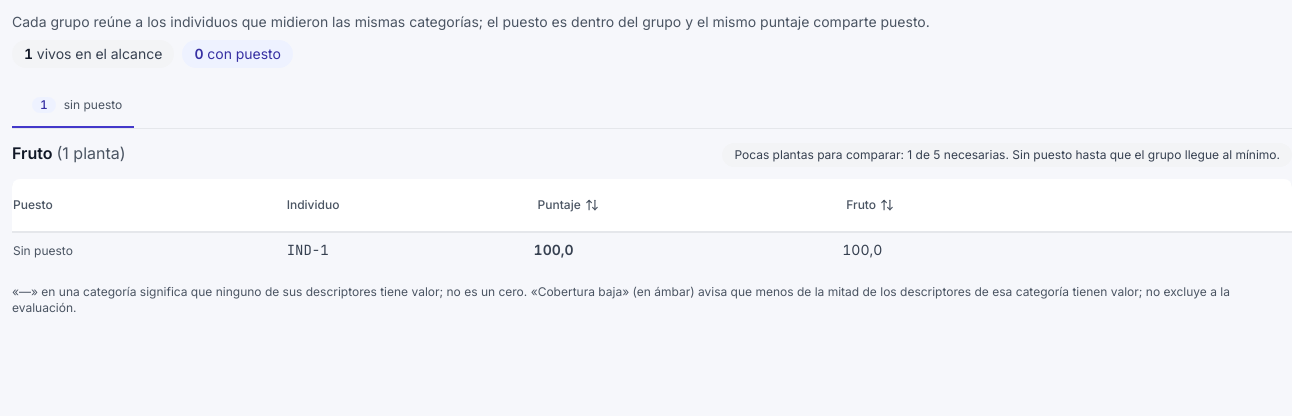
Test case: General conserva la misma tabla y su orden tras fallo de actualización
The width and height of the screenshot is (1292, 416).
Click the button "Puntaje".
click(568, 205)  # box [534, 183, 603, 227]
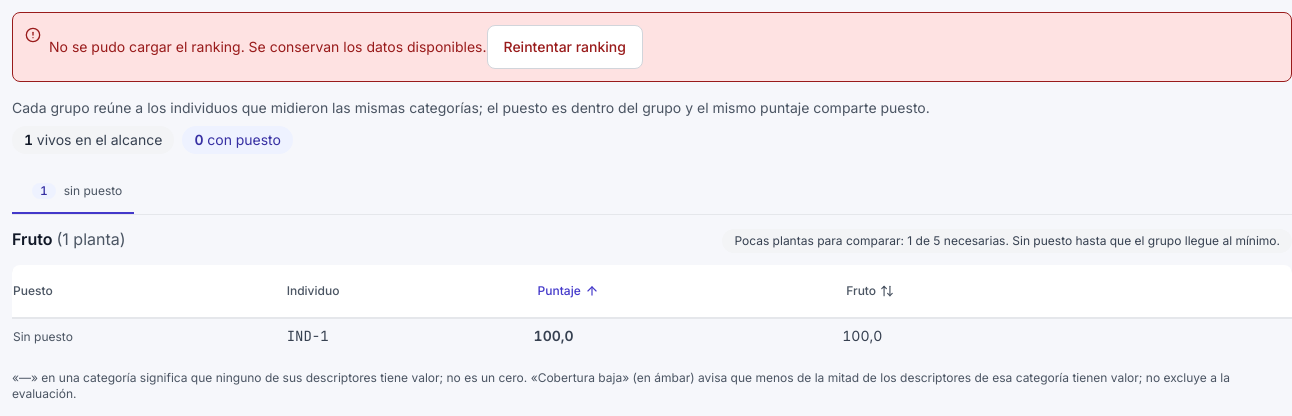
Expected: the message does not show "secret", [12, 12, 1291, 82]
Expected: the column heading "Puntaje" has attribute aria-sort="ascending", [533, 265, 841, 318]
